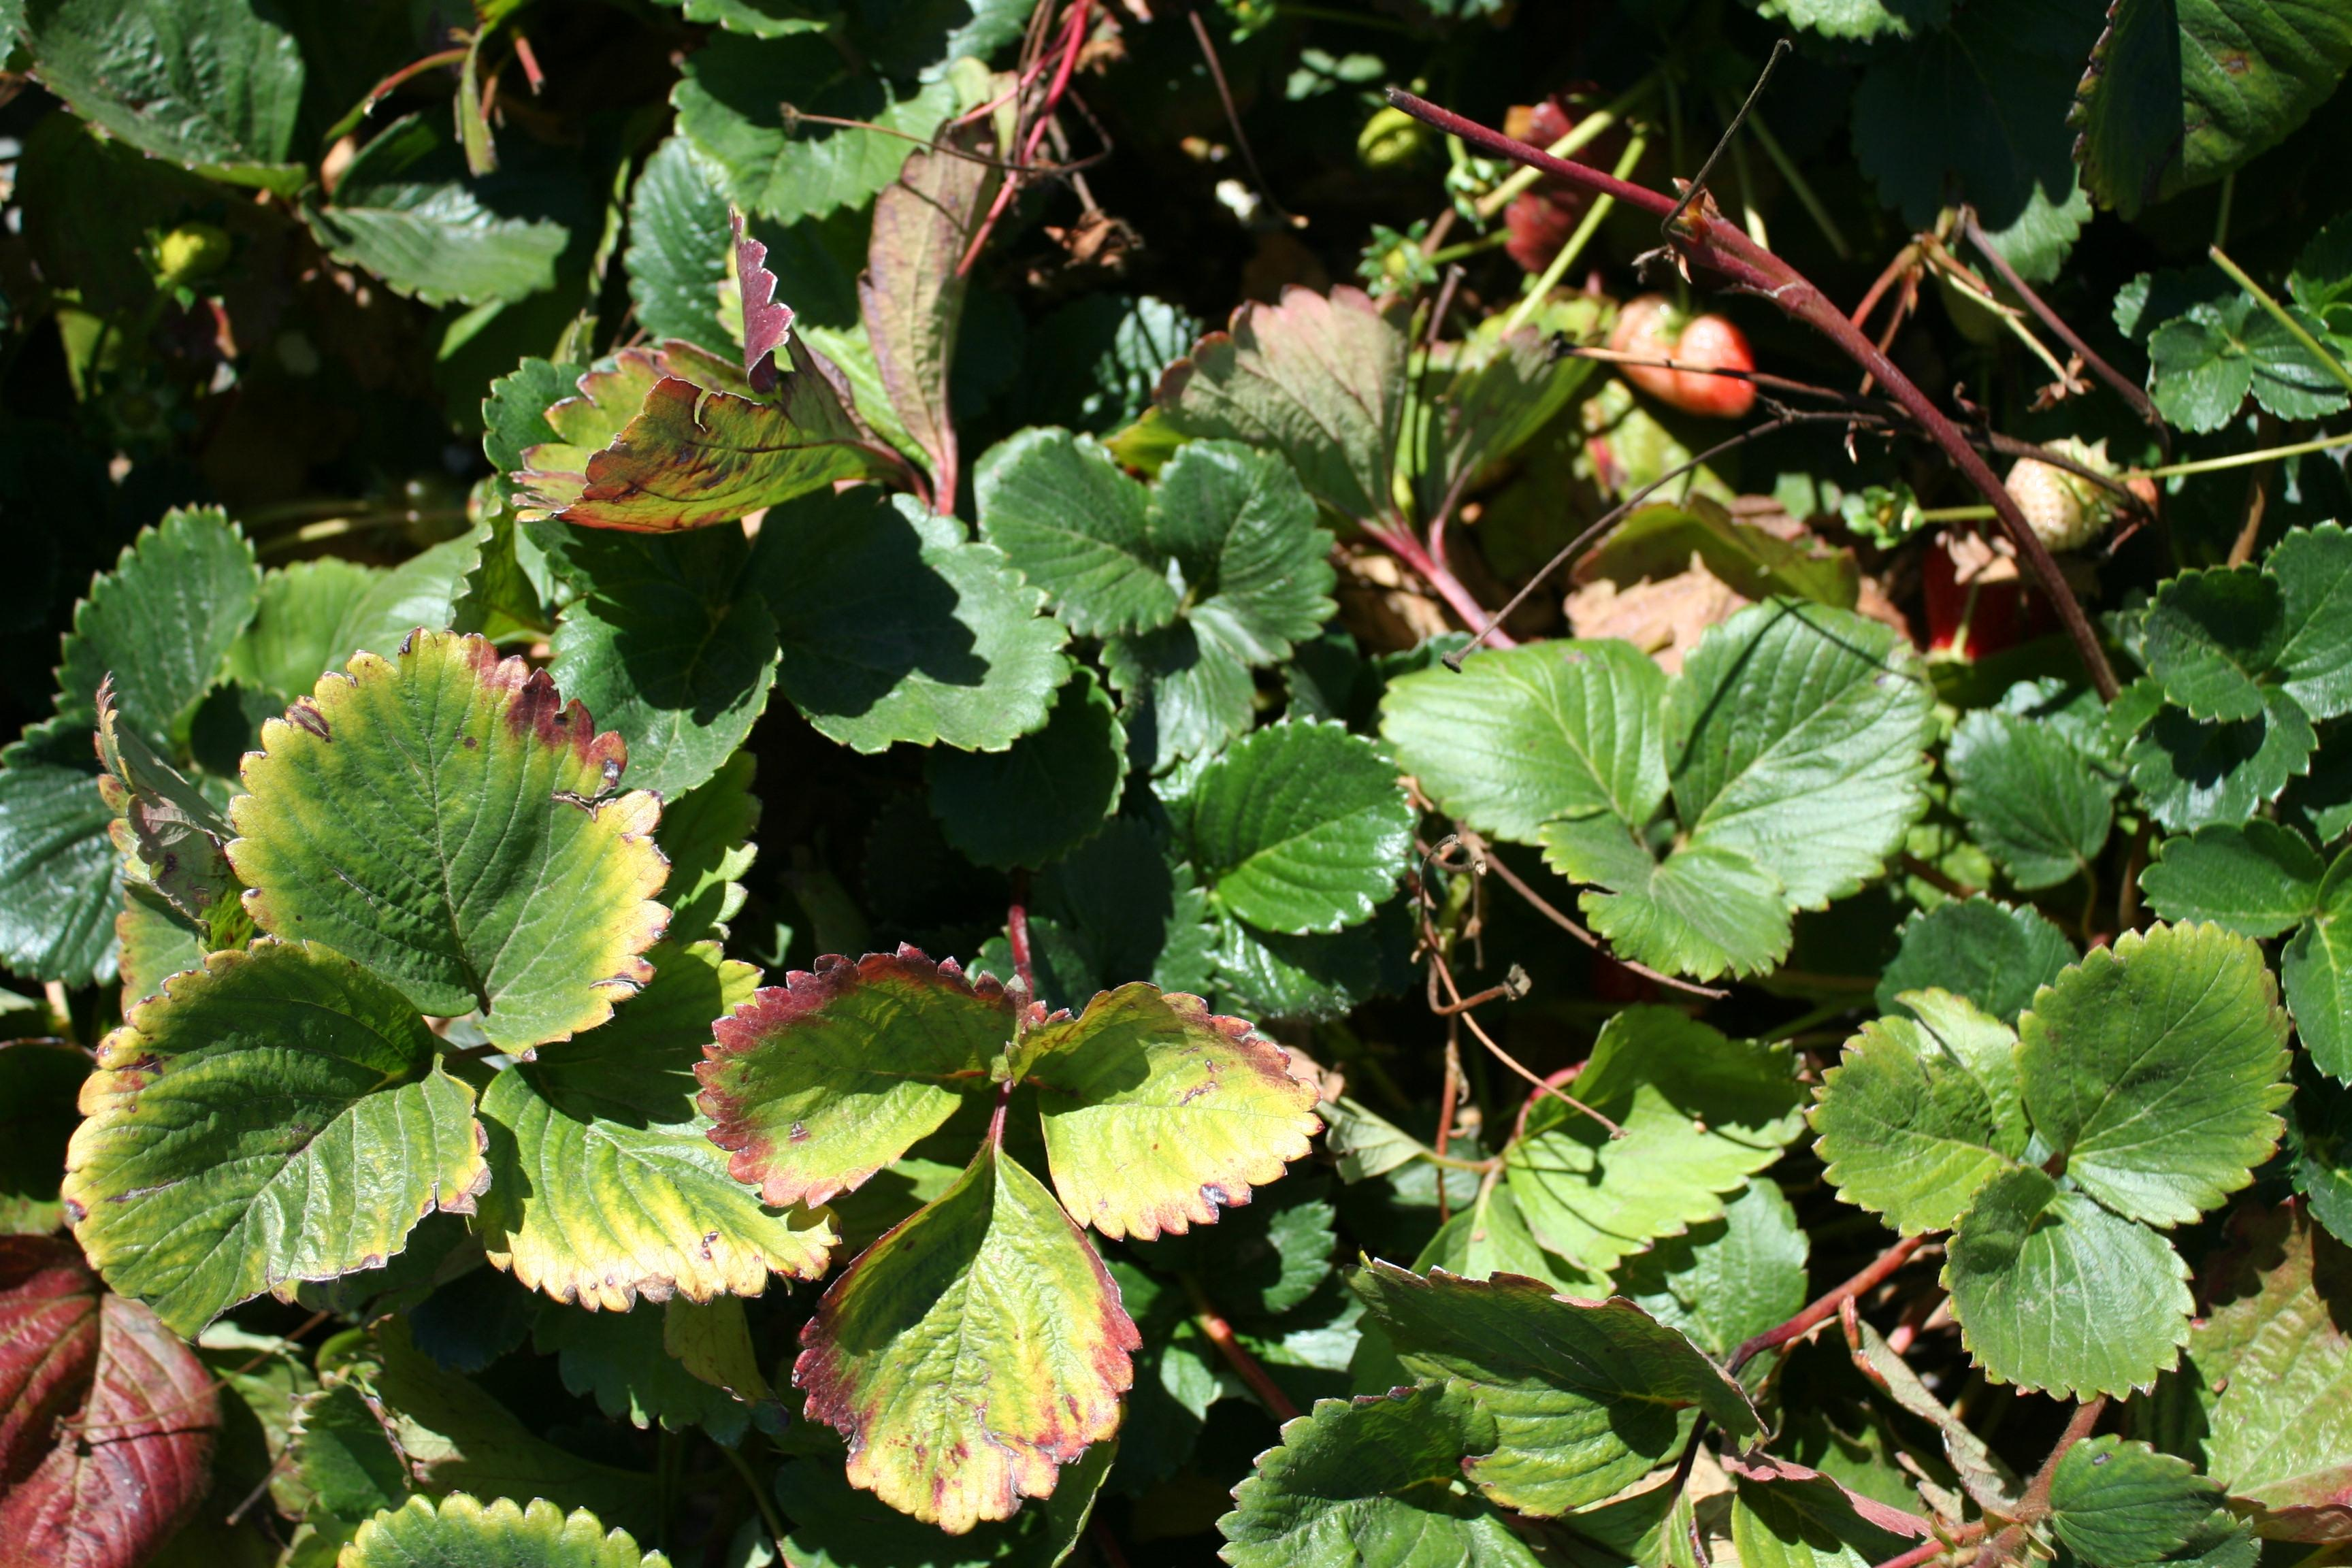Strawberry leaf: (238, 618, 658, 1082), (14, 943, 459, 1348), (738, 464, 1095, 774), (1992, 914, 2315, 1225), (1670, 592, 1958, 900), (460, 1071, 842, 1299), (1946, 1157, 2207, 1419), (1372, 616, 1666, 845), (1820, 977, 2028, 1263), (1536, 812, 1803, 1012)
